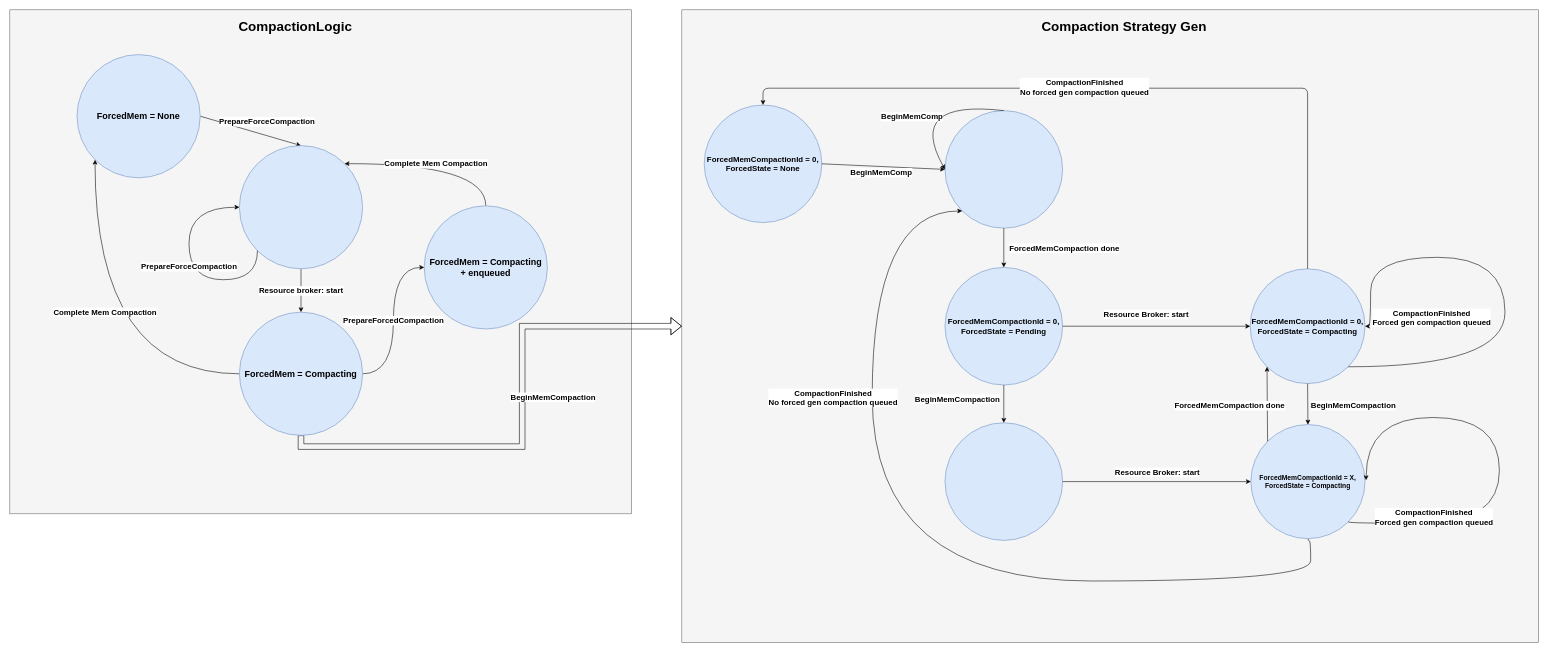
This 1548x652 diagram has some shape labels left out. The centre of each missing label's shape, as x and y in pixels:
"ForcedMem = Pending" belongs at pixel 301 207.
"ForcedMemCompactionId = X, ForcedState = None" belongs at pixel 1003 169.
"ForcedMemCompactionId = X, ForcedState = Pending" belongs at pixel 1003 481.
